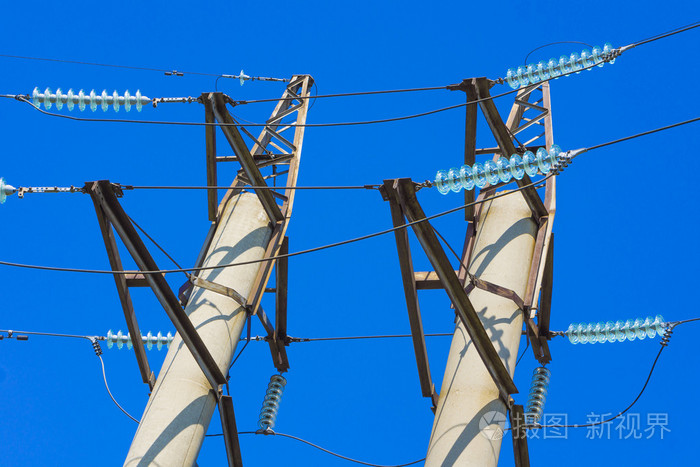insulator: (433, 145, 559, 194), (506, 41, 615, 87), (28, 86, 147, 113), (566, 314, 663, 347), (259, 376, 288, 430), (105, 329, 176, 351), (527, 368, 554, 424)
